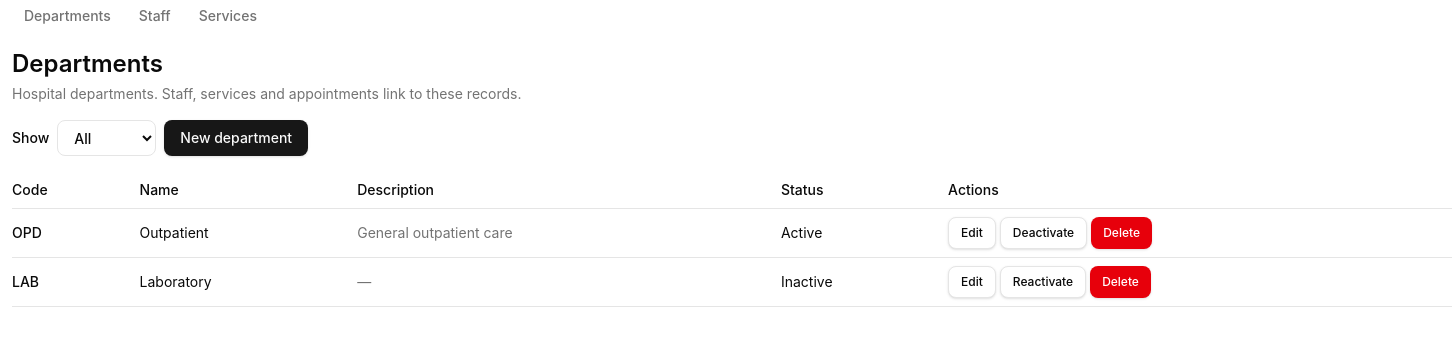
Test: DepartmentsPage › shows the refusal message when a referenced department cannot be deleted
Click the button "Delete" in the row of "OPD" at (1122, 233), box [1091,217,1152,249]
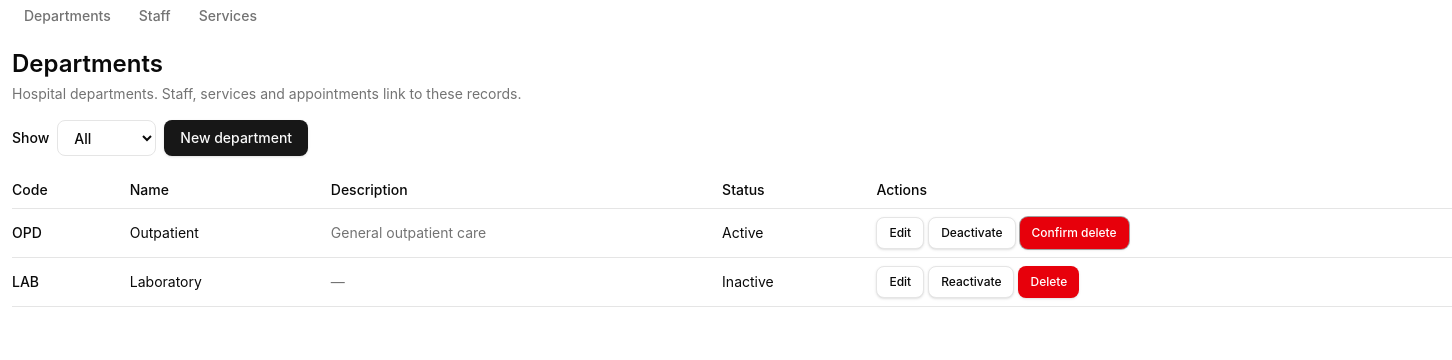
Click the button "Confirm delete" at (1074, 233), box [1020,217,1129,249]
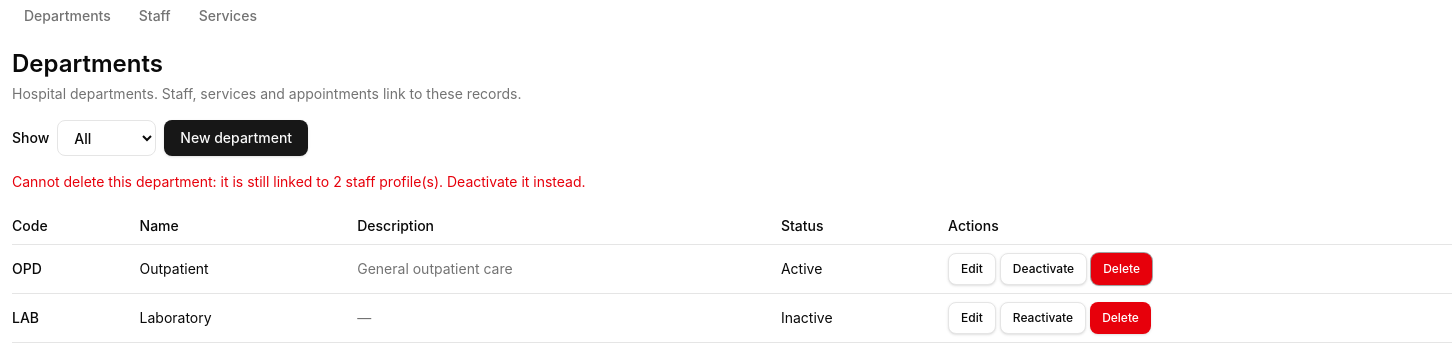
Check: the text "still linked to 2 staff profile" is shown, box [12,173,586,190]
